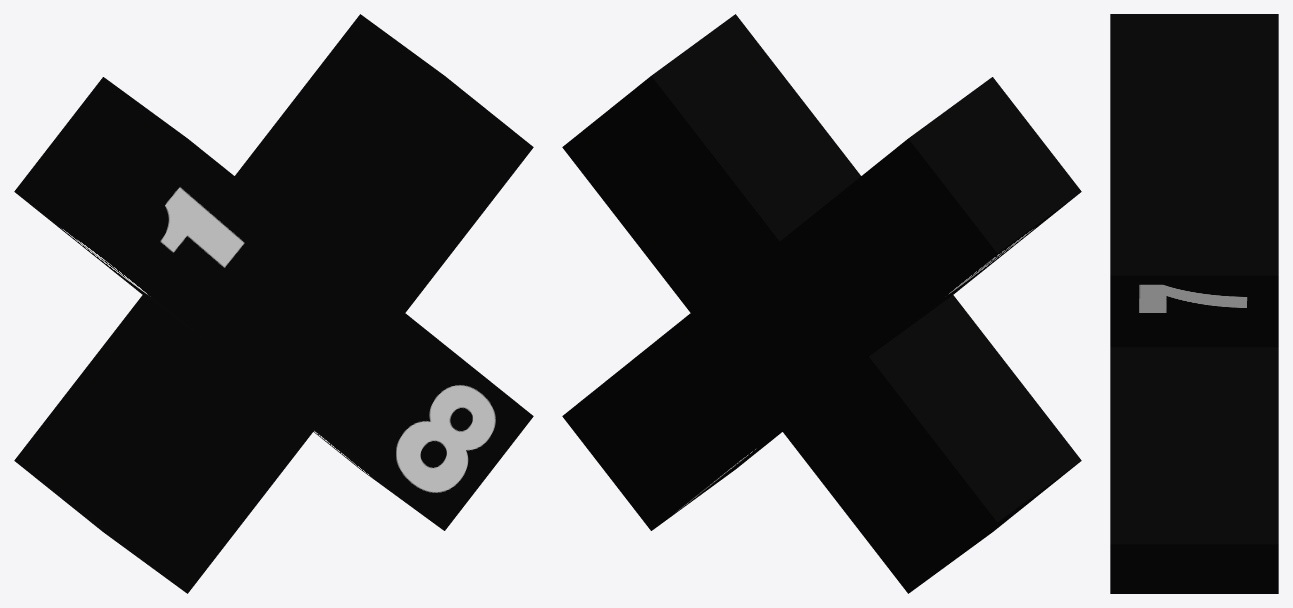
Rendered from Asset 1.gltf.
3 renders of one model, left to right at view 1: azimuth 30°, elevation 25°; view 2: azimuth 150°, elevation 25°; view 3: azimuth 270°, elevation 25°, orthographic.
Bounding box in the file's own units: 0.4981 × 0.4981 × 0.1672.
Materials: 1 (1 with a texture image).
